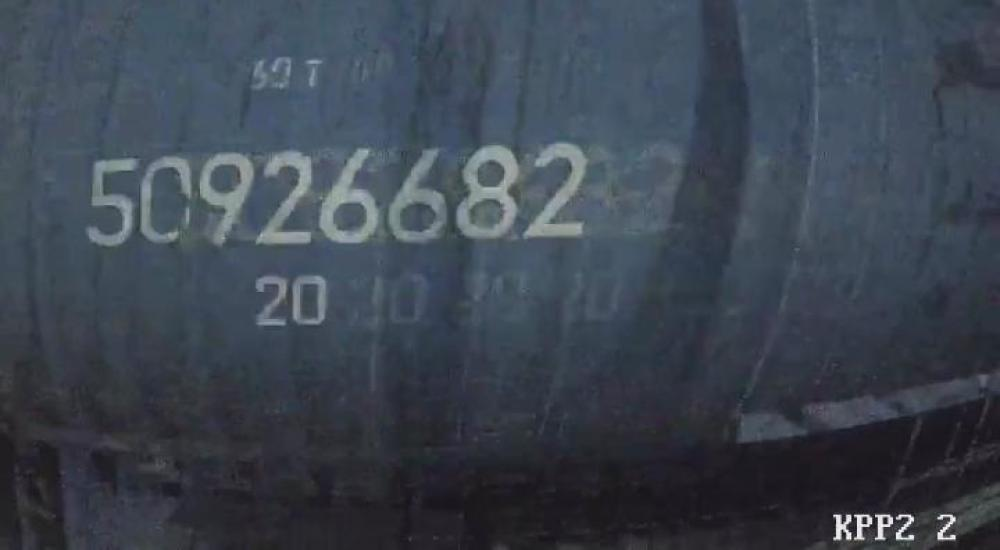Wagon-number: (80, 137, 591, 251)
